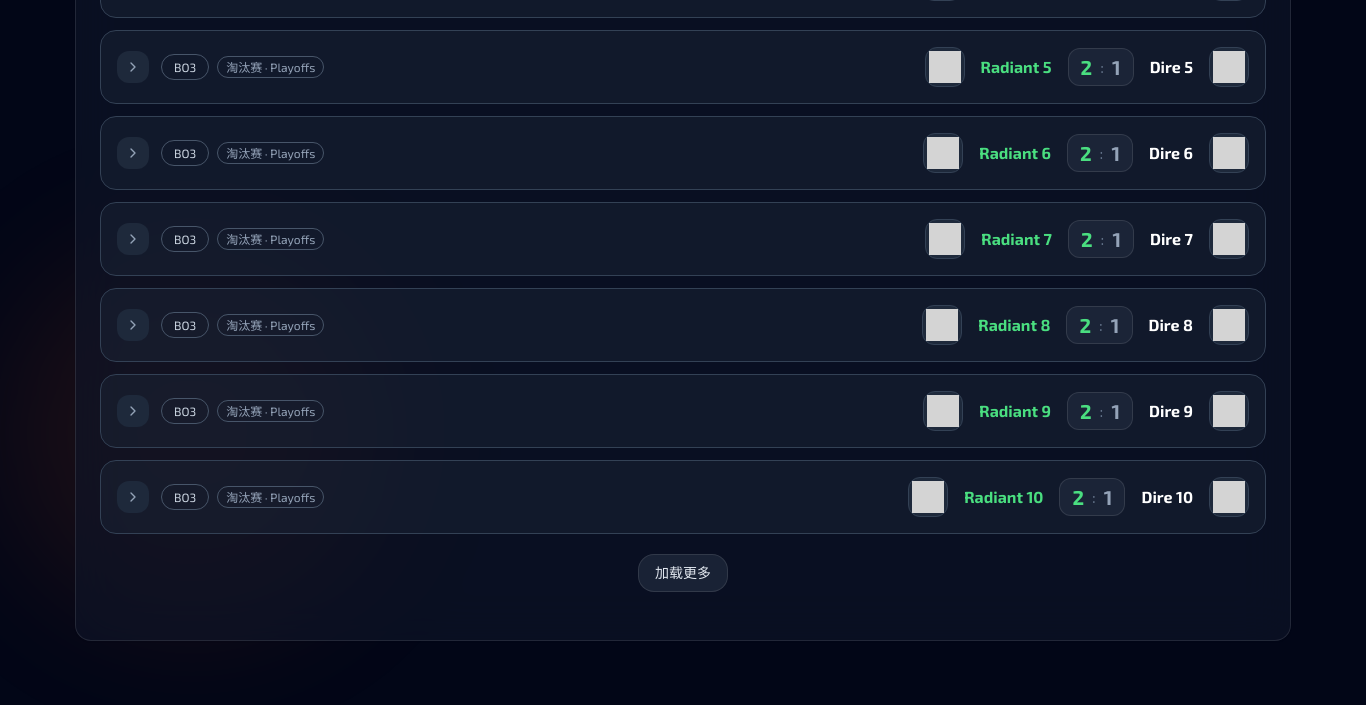
Test: TournamentSection › loads 10 series by default and fetches the next page on load more
This screenshot has width=1366, height=705.
(page scrolled)
Expected: the text "Radiant 10" is shown, left=964, top=487, right=1043, bottom=506
Expected: the text "Radiant 11" is not shown
What coordinates should you click on to do the following:
click the button "加载更多"
I would click on:
 (683, 573)
Its box is left=638, top=554, right=728, bottom=592.
(page scrolled)
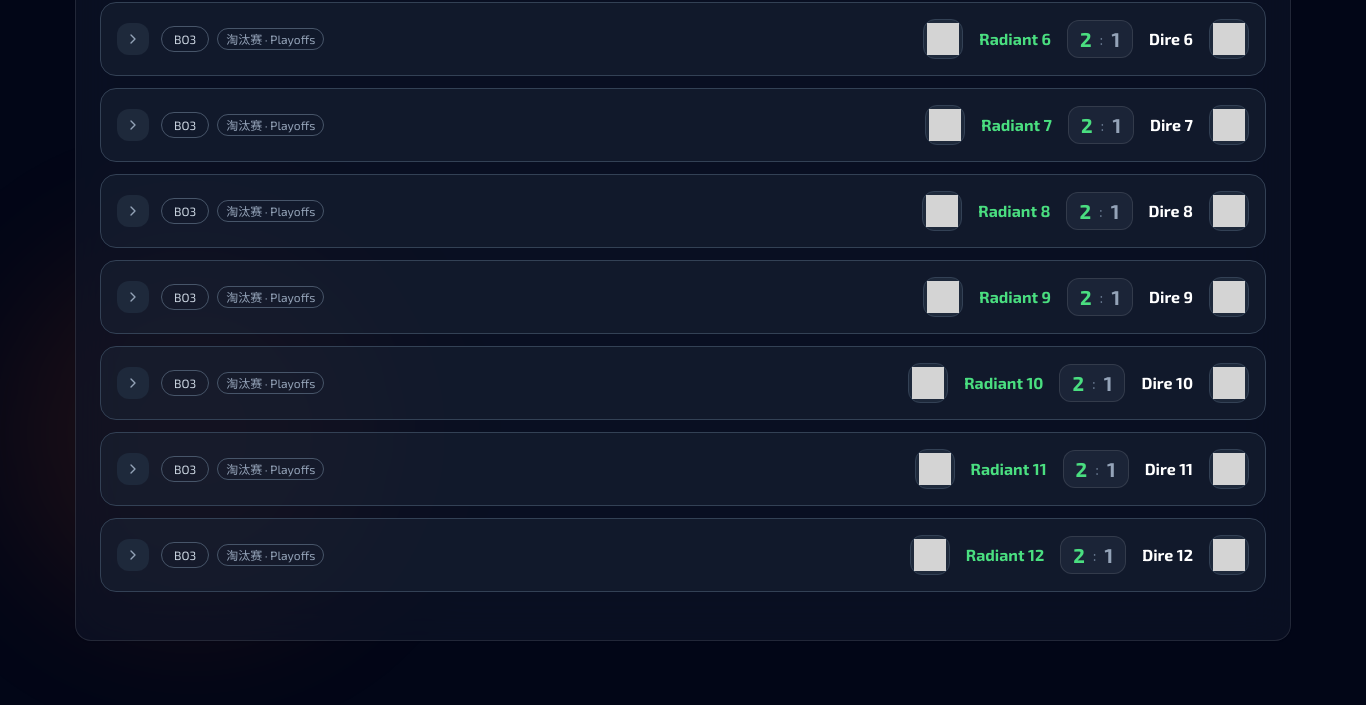
Result: the text "Radiant 11" is shown at left=971, top=459, right=1047, bottom=478
Result: the text "Dire 12" is shown at left=1142, top=545, right=1193, bottom=564
